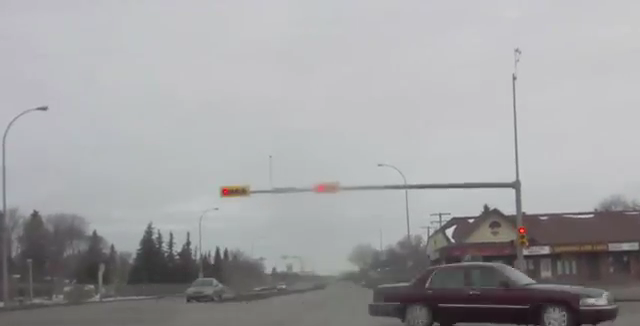car: (364, 261, 619, 326), (183, 277, 225, 302), (276, 283, 286, 291)
